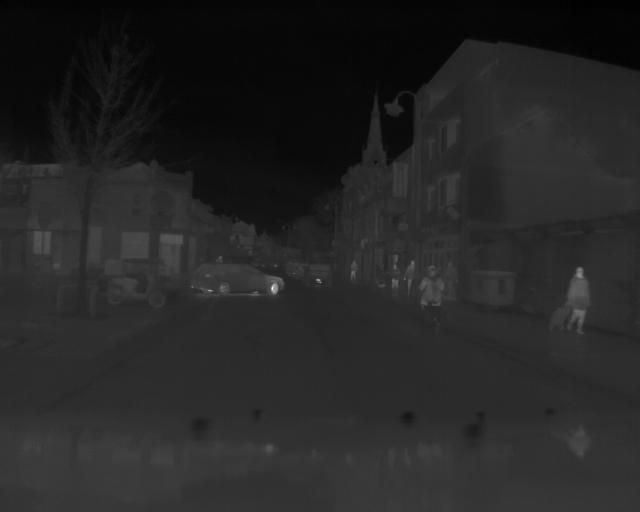car: (193, 261, 287, 298)
person: (566, 263, 591, 338), (422, 264, 441, 329), (405, 258, 415, 303), (391, 262, 399, 296), (351, 260, 357, 287)
